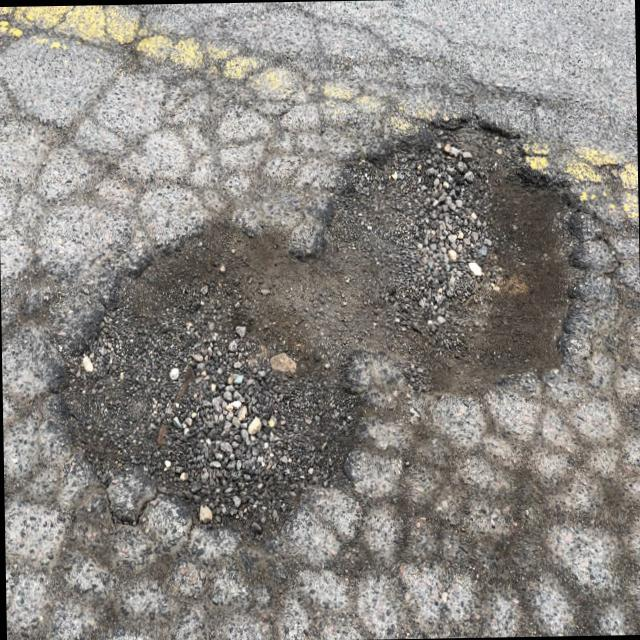pothole: (45, 88, 593, 552)
